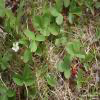Strawberry leaf: (28, 39, 39, 56), (22, 28, 35, 42), (24, 75, 39, 87), (22, 60, 31, 80), (12, 74, 25, 86), (35, 33, 46, 43)
